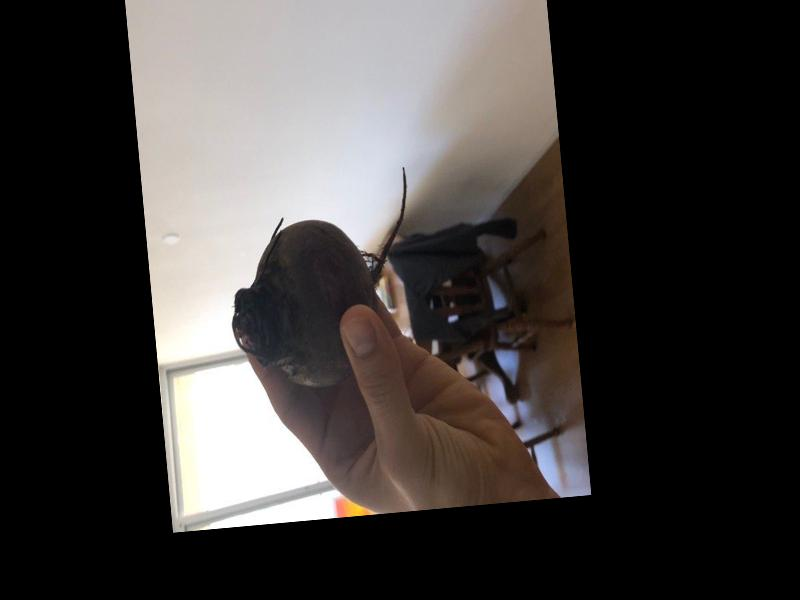Beet: (218, 165, 423, 393)
